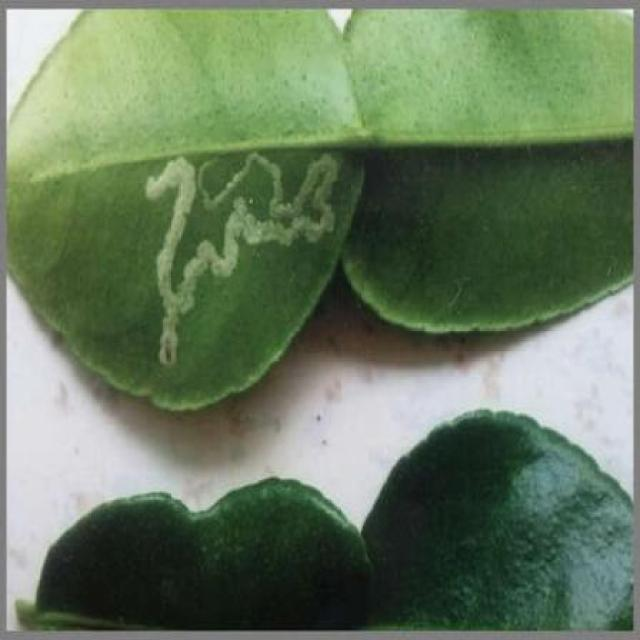Leaf Miner: (6, 7, 353, 412)
